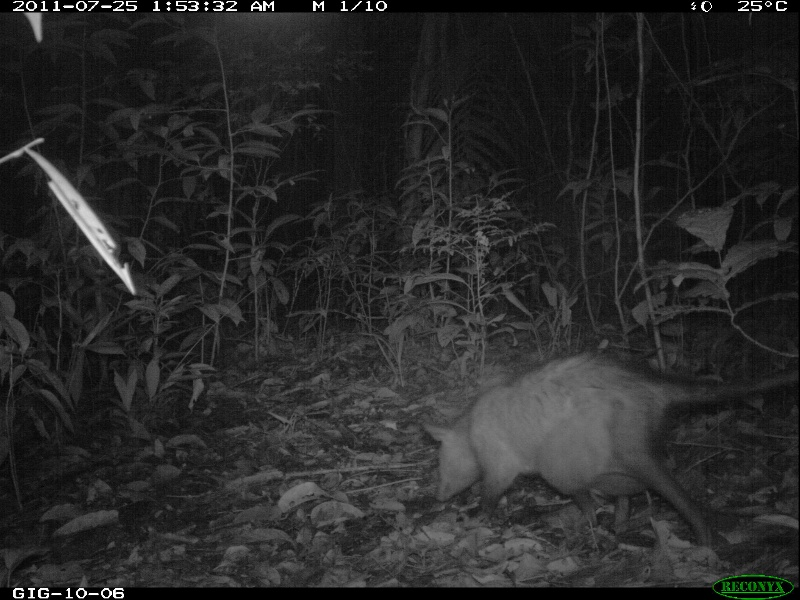opossum: (414, 354, 776, 549)
